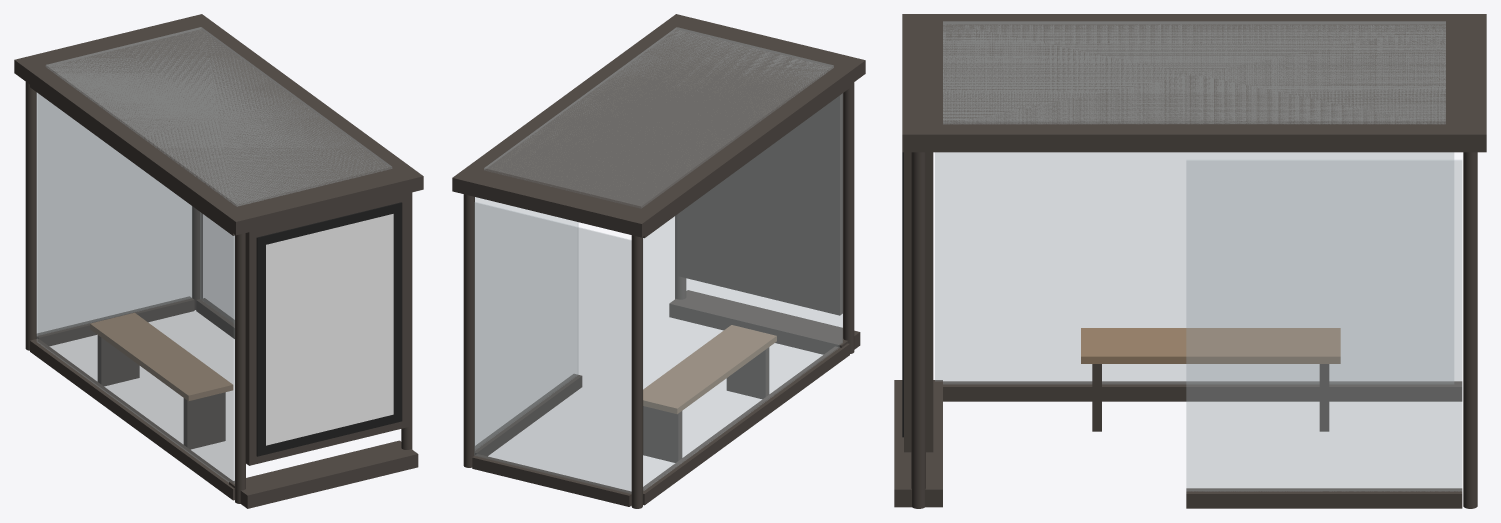
3 views of the same model, side by side, from view 1: azimuth 30°, elevation 25°; view 2: azimuth 150°, elevation 25°; view 3: azimuth 270°, elevation 25° (orthographic). The views are drawn at different scales.
Parts seen in each view (by area): view 1: back_glass, roof, roof_glass, end_glass, poster_screen, lightbox, lightbox_bezel, lightbox_foot, bench_seat, back_rail_low, post_-1_-3, side_glass (+8 smaller); view 2: back_glass, roof, end_glass, roof_glass, lightbox, side_glass, bench_seat, lightbox_foot, back_rail_low, post_-1_-3, post_+1_-3, post_-1_+1 (+6 smaller); view 3: back_glass, side_glass, roof, roof_glass, back_rail_low, bench_seat, side_rail_low, post_+1_-3, post_+1_+1, lightbox, lightbox_foot, bench_leg_-1.7 (+1 smaller).
Boxes of the visible parts, x1=… form: back_glass: x1=37, y1=93, x2=234, y2=483; roof: x1=14, y1=14, x2=423, y2=235; roof_glass: x1=46, y1=27, x2=391, y2=206; end_glass: x1=37, y1=93, x2=192, y2=335; poster_screen: x1=266, y1=214, x2=393, y2=445; lightbox: x1=245, y1=193, x2=409, y2=465; lightbox_bezel: x1=256, y1=202, x2=402, y2=456; lightbox_foot: x1=229, y1=440, x2=418, y2=508; bench_seat: x1=90, y1=313, x2=233, y2=400; back_rail_low: x1=30, y1=338, x2=234, y2=500; post_-1_-3: x1=25, y1=82, x2=36, y2=350; side_glass: x1=200, y1=212, x2=234, y2=323; back_glass: x1=643, y1=93, x2=842, y2=490; roof: x1=452, y1=14, x2=865, y2=237; end_glass: x1=474, y1=202, x2=631, y2=493; roof_glass: x1=484, y1=27, x2=833, y2=207; lightbox: x1=678, y1=93, x2=843, y2=315; side_glass: x1=475, y1=197, x2=578, y2=449; bench_seat: x1=643, y1=325, x2=776, y2=413; lightbox_foot: x1=669, y1=290, x2=860, y2=354; back_rail_low: x1=643, y1=343, x2=849, y2=505; post_-1_-3: x1=631, y1=235, x2=642, y2=508; post_+1_-3: x1=463, y1=194, x2=474, y2=467; post_-1_+1: x1=843, y1=82, x2=854, y2=353; back_glass: x1=935, y1=152, x2=1453, y2=383; side_glass: x1=1186, y1=160, x2=1461, y2=491; roof: x1=902, y1=14, x2=1486, y2=152; roof_glass: x1=943, y1=21, x2=1445, y2=123; back_rail_low: x1=943, y1=381, x2=1462, y2=401; bench_seat: x1=1081, y1=328, x2=1340, y2=363; side_rail_low: x1=1186, y1=488, x2=1462, y2=508; post_+1_-3: x1=1463, y1=152, x2=1477, y2=508; post_+1_+1: x1=911, y1=152, x2=925, y2=508; lightbox: x1=904, y1=152, x2=933, y2=452; lightbox_foot: x1=894, y1=380, x2=942, y2=507; bench_leg_-1.7: x1=1319, y1=364, x2=1329, y2=431.
Size of the model in its own units: 1.76 by 2.59 by 3.65.
